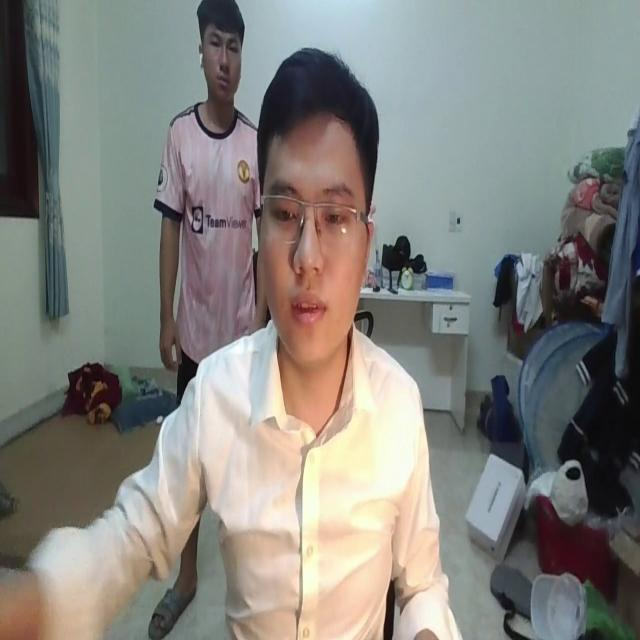extra_person: (154, 1, 271, 386)
student: (22, 81, 456, 640)
